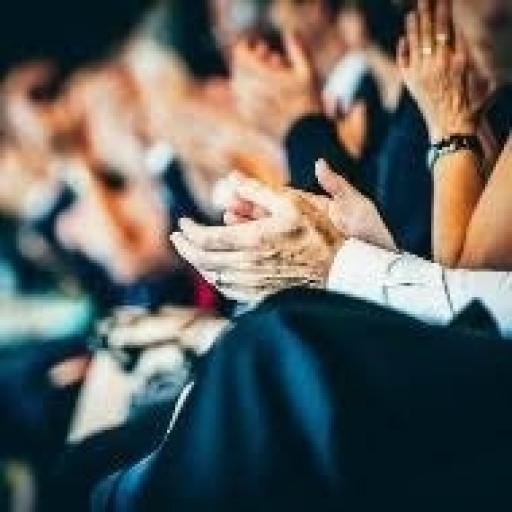clapping: (141, 5, 512, 458)
